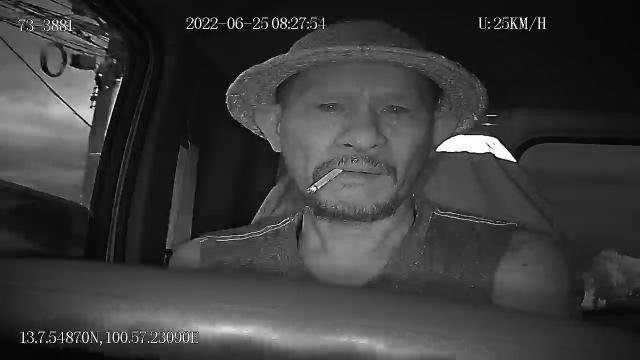SafeDriving: (371, 92, 417, 122), (308, 93, 352, 118)
Smoking: (306, 166, 344, 196)
